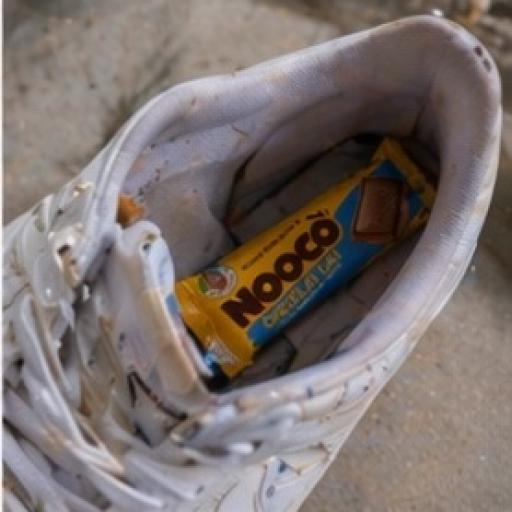biscuit-detection: (161, 116, 467, 403)
